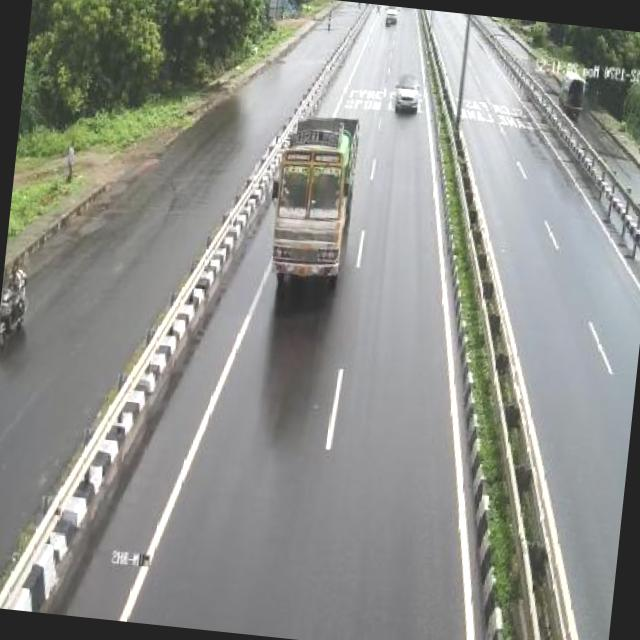car: (390, 68, 420, 121)
